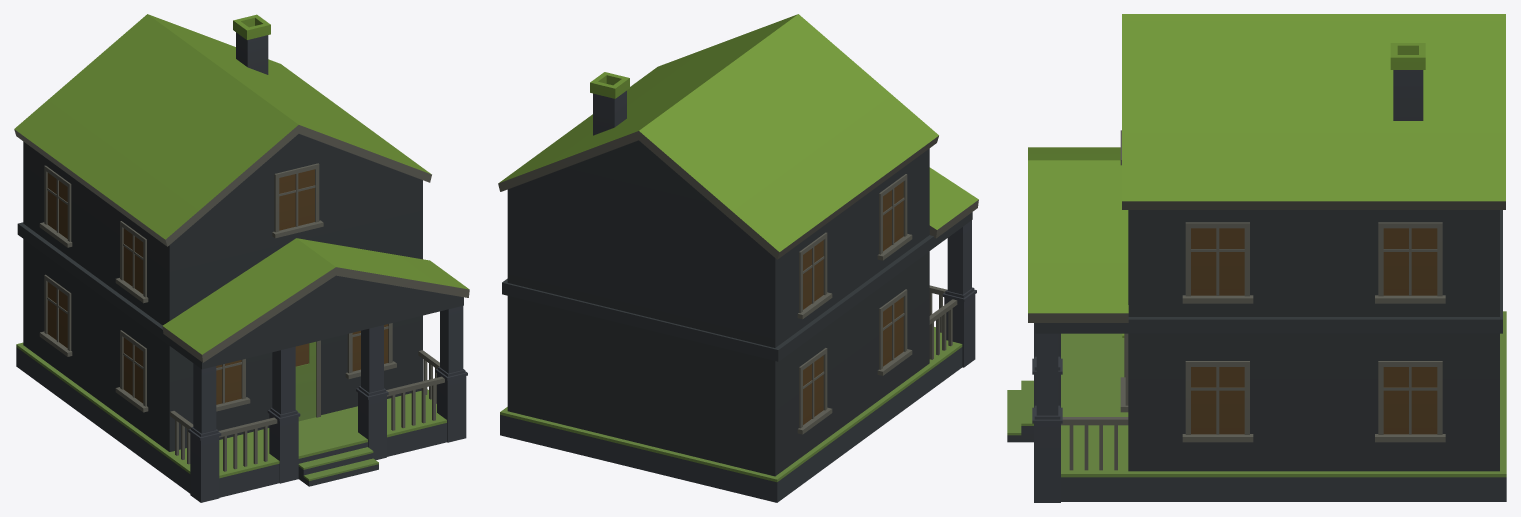
File: SuburbHouse_03.fbx
3 views of the same model, side by side, from view 1: azimuth 30°, elevation 25°; view 2: azimuth 150°, elevation 25°; view 3: azimuth 270°, elevation 25° (orthographic). The views are drawn at different scales.
Visible parts, largest first — view 1: SuburbHouse_03; view 2: SuburbHouse_03; view 3: SuburbHouse_03.
Part boxes in pixels (<box>): SuburbHouse_03: <box>14,14,469,502</box>; SuburbHouse_03: <box>498,14,978,502</box>; SuburbHouse_03: <box>1007,14,1506,502</box>.
Size of the model in its own units: 6.34 by 7.33 by 8.06.
